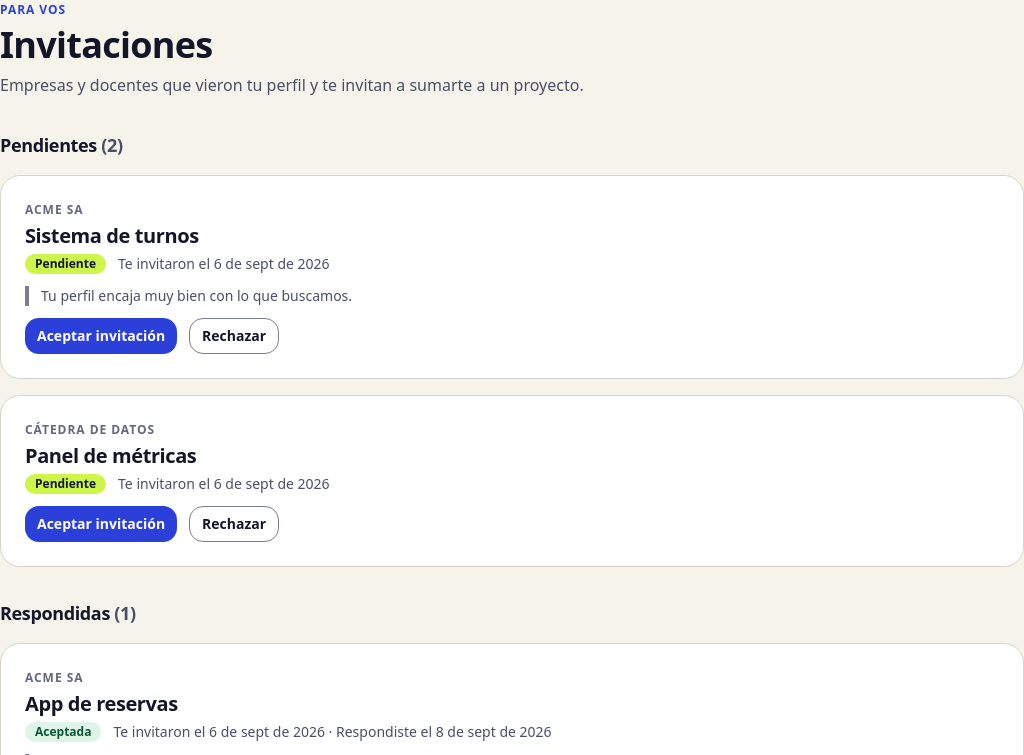
InvitacionesPage › rechazar › si falla muestra el error dentro del diálogo y no avisa que se rechazó
Expected: the link "Panel de métricas" is shown, [25,442,196,469]
Click the button "Rechazar" below "Panel de métricas" at (234, 524), box [189,506,279,542]
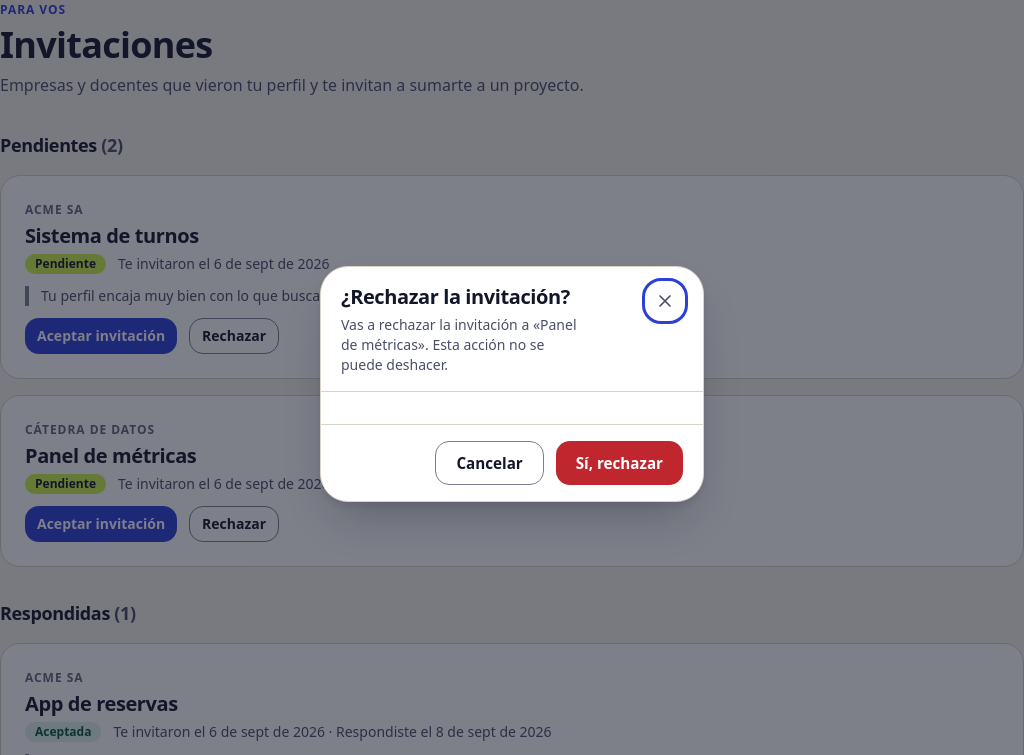
Click the button "Sí, rechazar" at (619, 463), box [556,441,683,485]
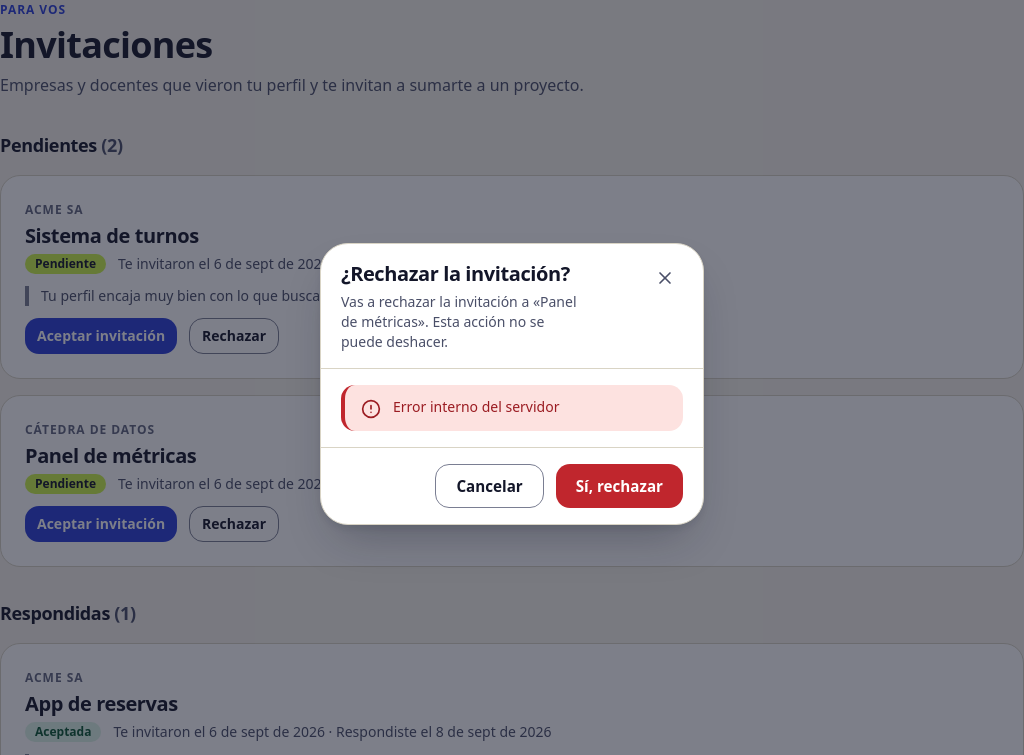
Expected: the text "Error interno del servidor" is shown, [393,397,560,417]
